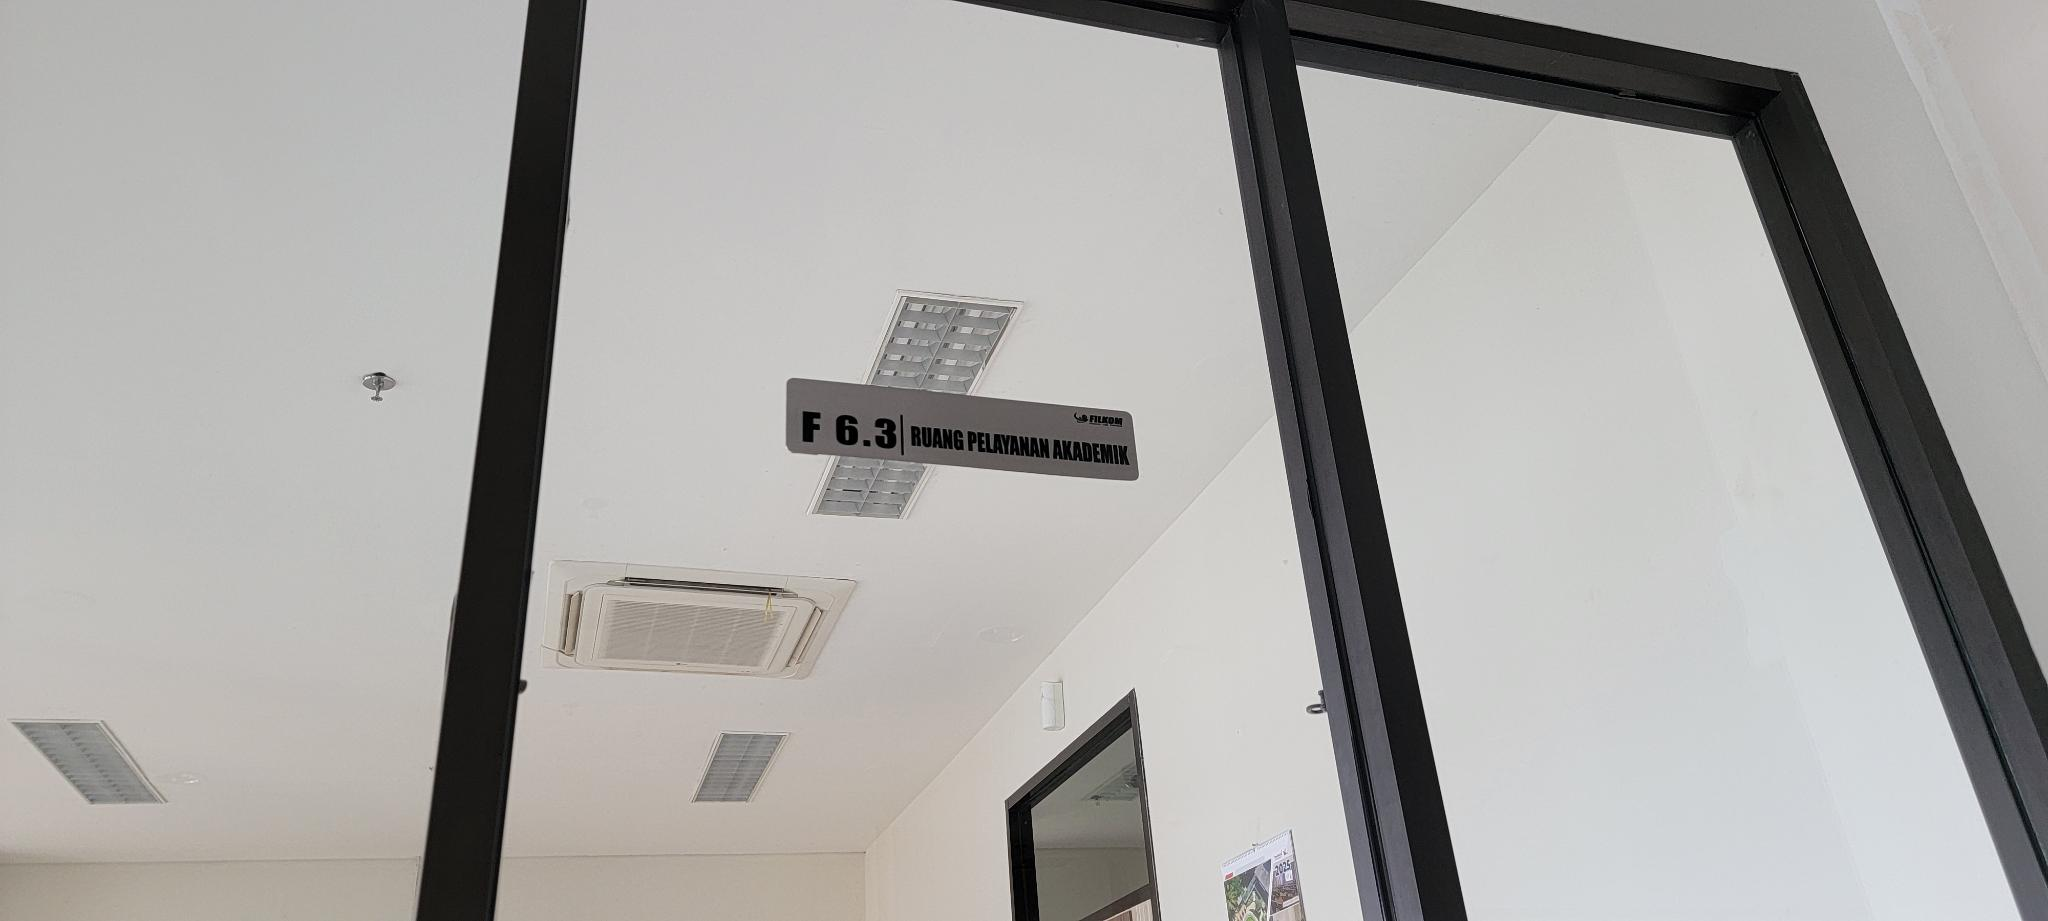plate: (785, 378, 1139, 482)
